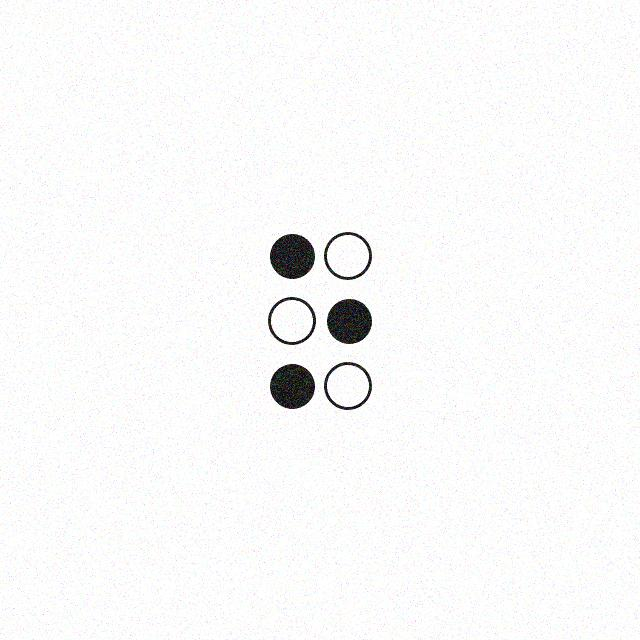O: (263, 226, 374, 417)
